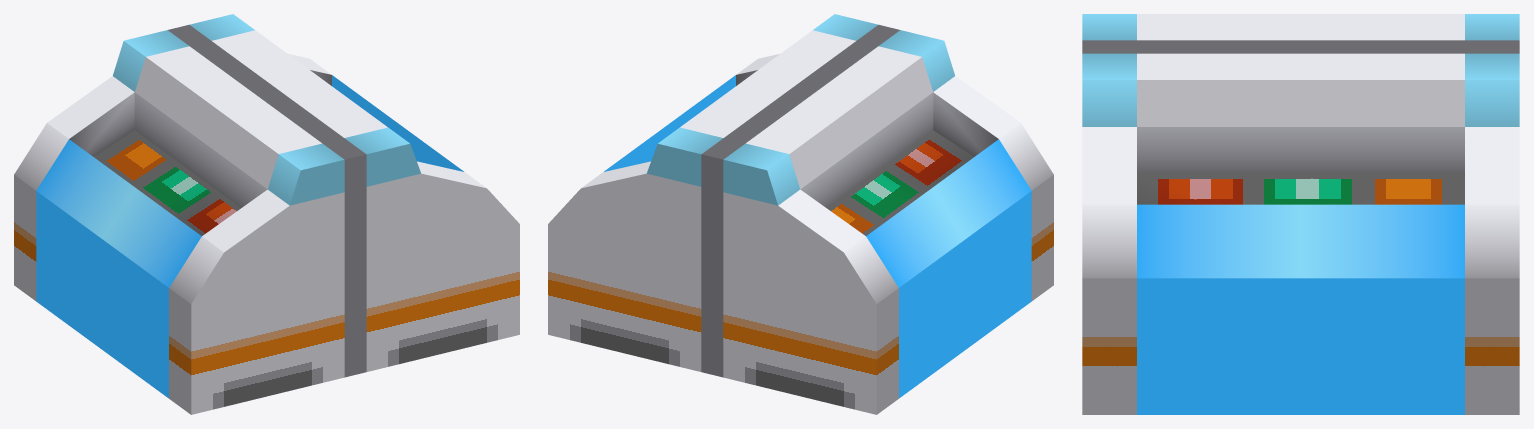
3 views of the same model, side by side, from view 1: azimuth 30°, elevation 25°; view 2: azimuth 150°, elevation 25°; view 3: azimuth 270°, elevation 25° (orthographic). The views are drawn at different scales.
Visible parts, largest first — view 1: shelf_fs06; view 2: shelf_fs06; view 3: shelf_fs06.
Part boxes in pixels (x1,y1,x2,y2): shelf_fs06: (14, 14, 519, 414); shelf_fs06: (548, 14, 1053, 414); shelf_fs06: (1082, 14, 1519, 414).
Size of the model in its own units: 1.88 by 1.19 by 1.75.
Materials: 1 (1 with a texture image).
